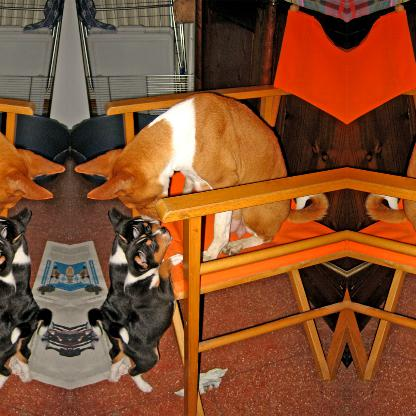Dog: (74, 91, 330, 261), (85, 209, 161, 382), (106, 227, 182, 389), (0, 91, 65, 262), (0, 208, 54, 382), (362, 91, 415, 262), (0, 227, 32, 390)
